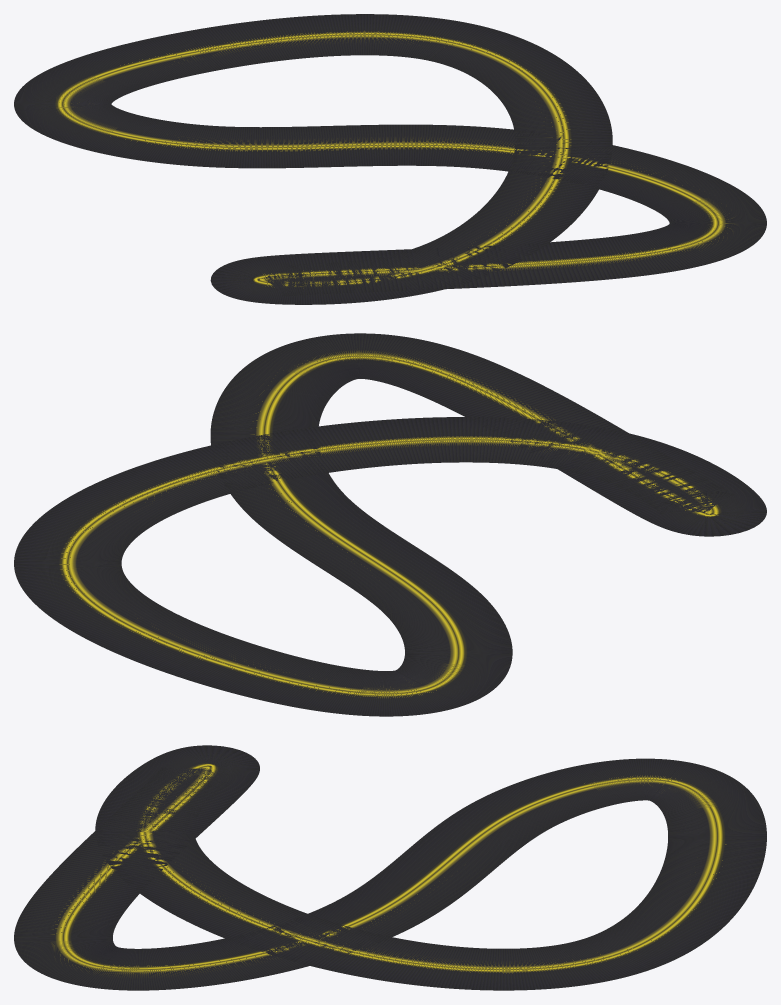
3 renders of one model, top to bottom at view 1: azimuth 30°, elevation 25°; view 2: azimuth 150°, elevation 25°; view 3: azimuth 270°, elevation 25°, orthographic. The views are drawn at different scales.
Visible parts, largest first — view 1: road; view 2: road; view 3: road.
Part boxes in pixels (box(x1,y1,x2,y2)): road: box(14, 14, 766, 304); road: box(14, 333, 766, 716); road: box(14, 745, 766, 990).
Size of the model in its own units: 1.06 by 0 by 1.37.
1 material, 1 textured.
